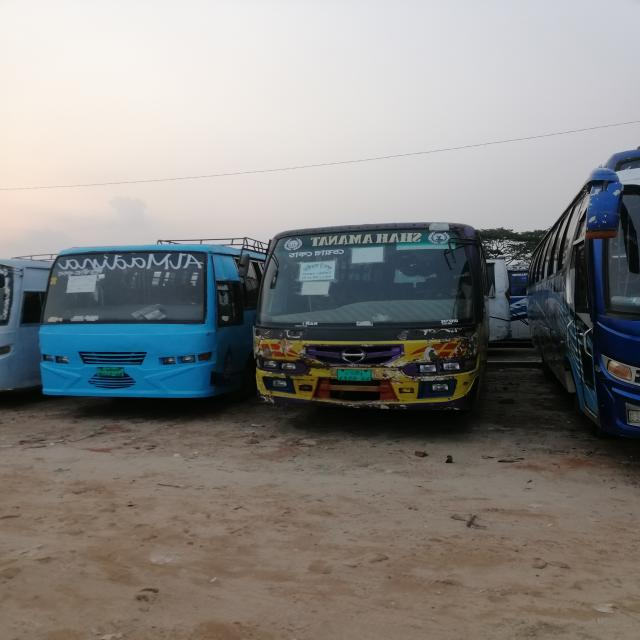Bus: (251, 216, 526, 414), (36, 240, 248, 403)
